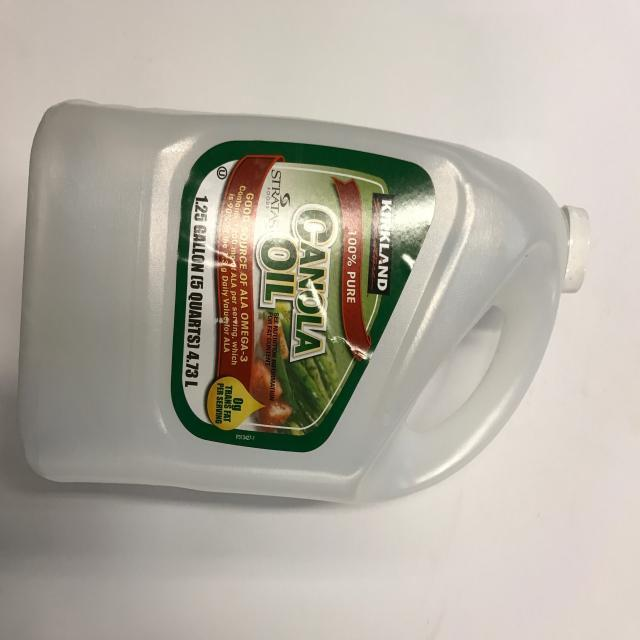plastic: (12, 93, 590, 515)
